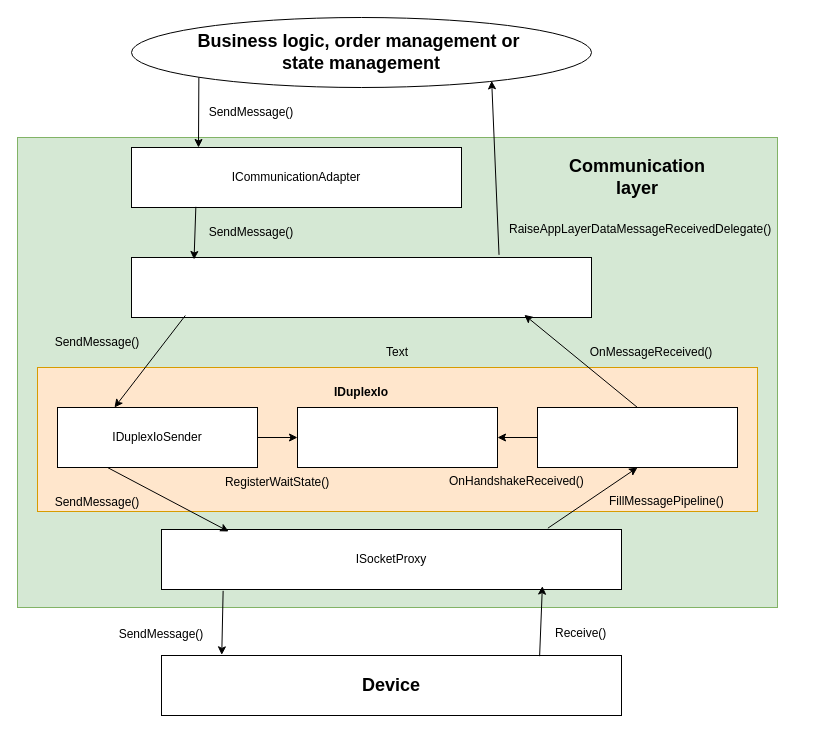
Some shapes in this 815 by 733 pixel diagram are drawn without their labels. The shapes that lost their labels are listed below. From the top down, each one's centre as x and y in pixels, then its label:
pixel 361 287: ICommunicationHandler
pixel 397 437: IWaitStateManager (Handshake handling)
pixel 637 437: IDuplexIoReceiver
